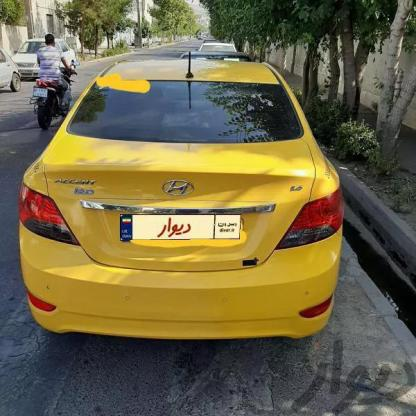Car: (21, 48, 342, 345), (20, 34, 74, 78), (0, 44, 24, 90)
